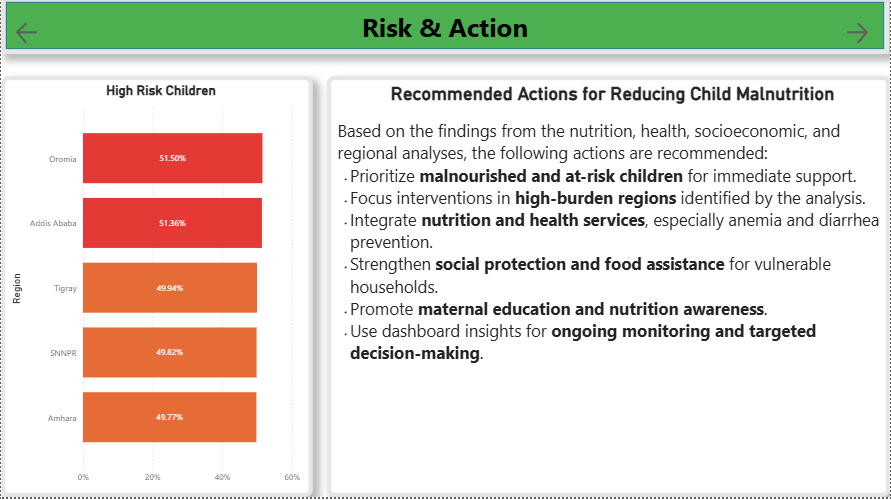

Layout of this report page (visuals, bound fields, positions):
{"tool":"powerbi","page":{"name":"Risk & Action","canvas":[1280,720],"ordinal":4},"visuals":[{"type":"clusteredBarChart","title":"High Risk Children","fields":{"Y":["malnutrition_children_ethiopia.% High Risk"],"Category":["malnutrition_children_ethiopia.Region"]},"box":[0,113.8,449.3,606.2],"z":0},{"type":"textbox","title":"Recommended Actions for Reducing Child Malnutrition","box":[469.4,113.8,810.7,606.2],"z":1000},{"type":"shape","title":"Under-Five Child Nutrition Analysis Dashboard","box":[0,0,1278.7,82.1],"z":2000},{"type":"actionButton","box":[17.3,31.7,99.4,40.3],"z":3000},{"type":"actionButton","box":[1212.5,31.7,56.2,40.3],"z":4000}]}

Visuals, with their boxes in screenshot pixels (x1, y1, x2, y2), scaled from the page's 1280x720 canvas onto the 891x500 screenshot:
"High Risk Children" clusteredBarChart: 0,79,313,499
"Recommended Actions for Reducing Child Malnutrition" textbox: 327,79,890,499
"Under-Five Child Nutrition Analysis Dashboard" shape: 0,0,890,57
actionButton: 12,22,81,50
actionButton: 844,22,883,50
